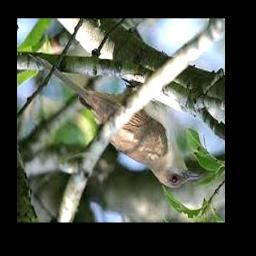Cuckoo: (28, 52, 202, 188)
